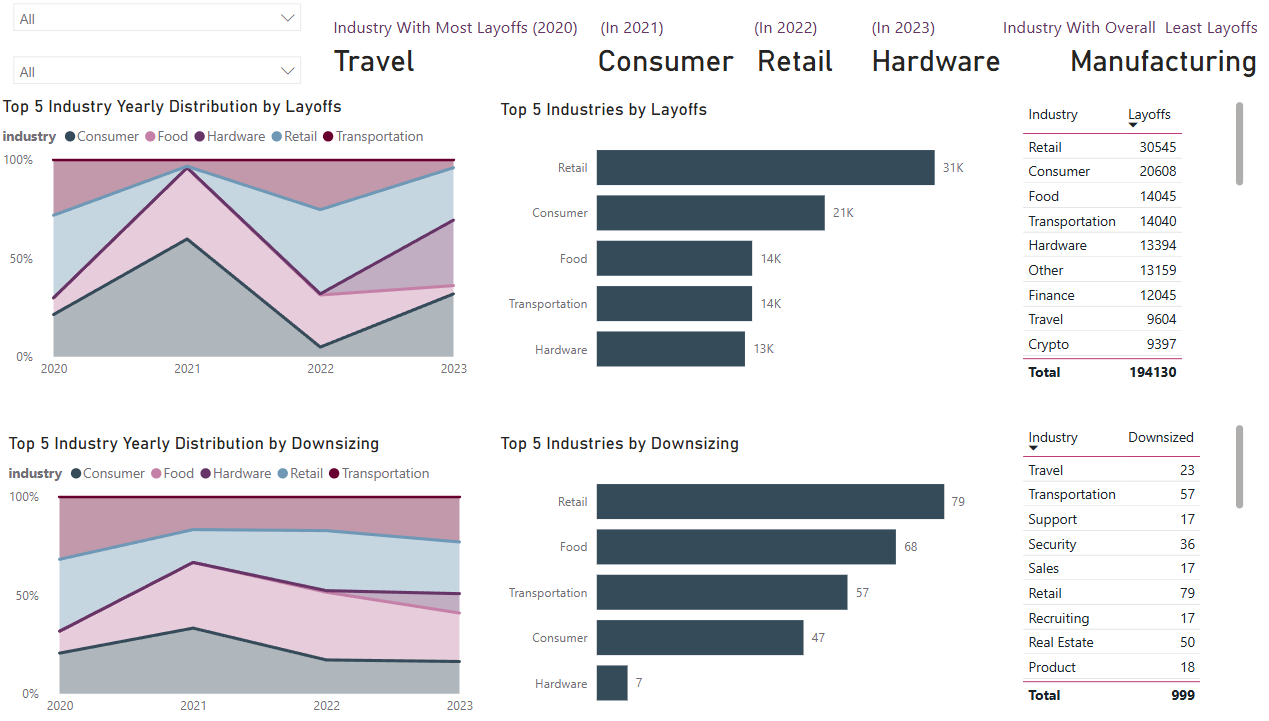

This screenshot's page, from the dashboard's own definition file:
{"tool":"powerbi","page":{"name":"Page 3","canvas":[1280,720],"ordinal":3},"visuals":[{"type":"textbox","box":[346.3,24.3,924,82.7],"z":0},{"type":"clusteredBarChart","title":"Top 5 Industries by Downsizing ","fields":{"Y":["CountNonNull(layoffs_final.company)"],"Category":["layoffs_final.industry"]},"box":[508.7,435.7,462,284],"z":1000},{"type":"clusteredBarChart","title":"Top 5 Industries by Layoffs ","fields":{"Category":["layoffs_final.industry"],"Y":["Sum(layoffs_final.total_laid_off)"]},"box":[508.7,110.9,462,284],"z":2000},{"type":"hundredPercentStackedAreaChart","title":"Top 5 Industry Yearly Distribution by Layoffs ","fields":{"Y":["Sum(layoffs_final.total_laid_off)"],"Series":["layoffs_final.industry"],"Category":["layoffs_final.date.Variation.Date Hierarchy.Year"]},"box":[24.3,108,462,284],"z":3000},{"type":"tableEx","fields":{"Values":["layoffs_final.industry","Sum(layoffs_final.total_laid_off)"]},"box":[1016.4,108,225.7,284],"z":4000},{"type":"tableEx","fields":{"Values":["layoffs_final.industry","CountNonNull(layoffs_final.company)"]},"box":[1016.4,422.1,225.7,284],"z":5000},{"type":"slicer","fields":{"Values":["layoffs_final.date.Variation.Date Hierarchy.Year","layoffs_final.date.Variation.Date Hierarchy.Quarter","layoffs_final.date.Variation.Date Hierarchy.Month","layoffs_final.date.Variation.Date Hierarchy.Day"]},"box":[30.2,7.8,299.6,51.6],"z":6000},{"type":"hundredPercentStackedAreaChart","title":"Top 5 Industry Yearly Distribution by Downsizing","fields":{"Y":["CountNonNull(layoffs_final.company)"],"Series":["layoffs_final.industry"],"Category":["layoffs_final.date.Variation.Date Hierarchy.Year"]},"box":[30.2,435.7,462,284],"z":7000},{"type":"slicer","fields":{"Values":["layoffs_final.industry"]},"box":[30.2,59.3,299.6,51.6],"z":8000},{"type":"textbox","box":[346.3,51.6,917.2,48.6],"z":9000}]}

Visuals, with their boxes in screenshot pixels (x1, y1, x2, y2), scaled from the page's 1280x720 canvas onto the 1269x721 screenshot:
textbox: 343,24,1259,107
"Top 5 Industries by Downsizing " clusteredBarChart: 504,436,962,720
"Top 5 Industries by Layoffs " clusteredBarChart: 504,111,962,395
"Top 5 Industry Yearly Distribution by Layoffs " hundredPercentStackedAreaChart: 24,108,482,393
tableEx - layoffs_final.industry x Sum(layoffs_final.total_laid_off): 1008,108,1231,393
tableEx - layoffs_final.industry x CountNonNull(layoffs_final.company): 1008,423,1231,707
slicer - layoffs_final.date.Variation.Date Hierarchy.Year x layoffs_final.date.Variation.Date Hierarchy.Quarter: 30,8,327,59
"Top 5 Industry Yearly Distribution by Downsizing" hundredPercentStackedAreaChart: 30,436,488,720
slicer - layoffs_final.industry: 30,59,327,111
textbox: 343,52,1253,100
